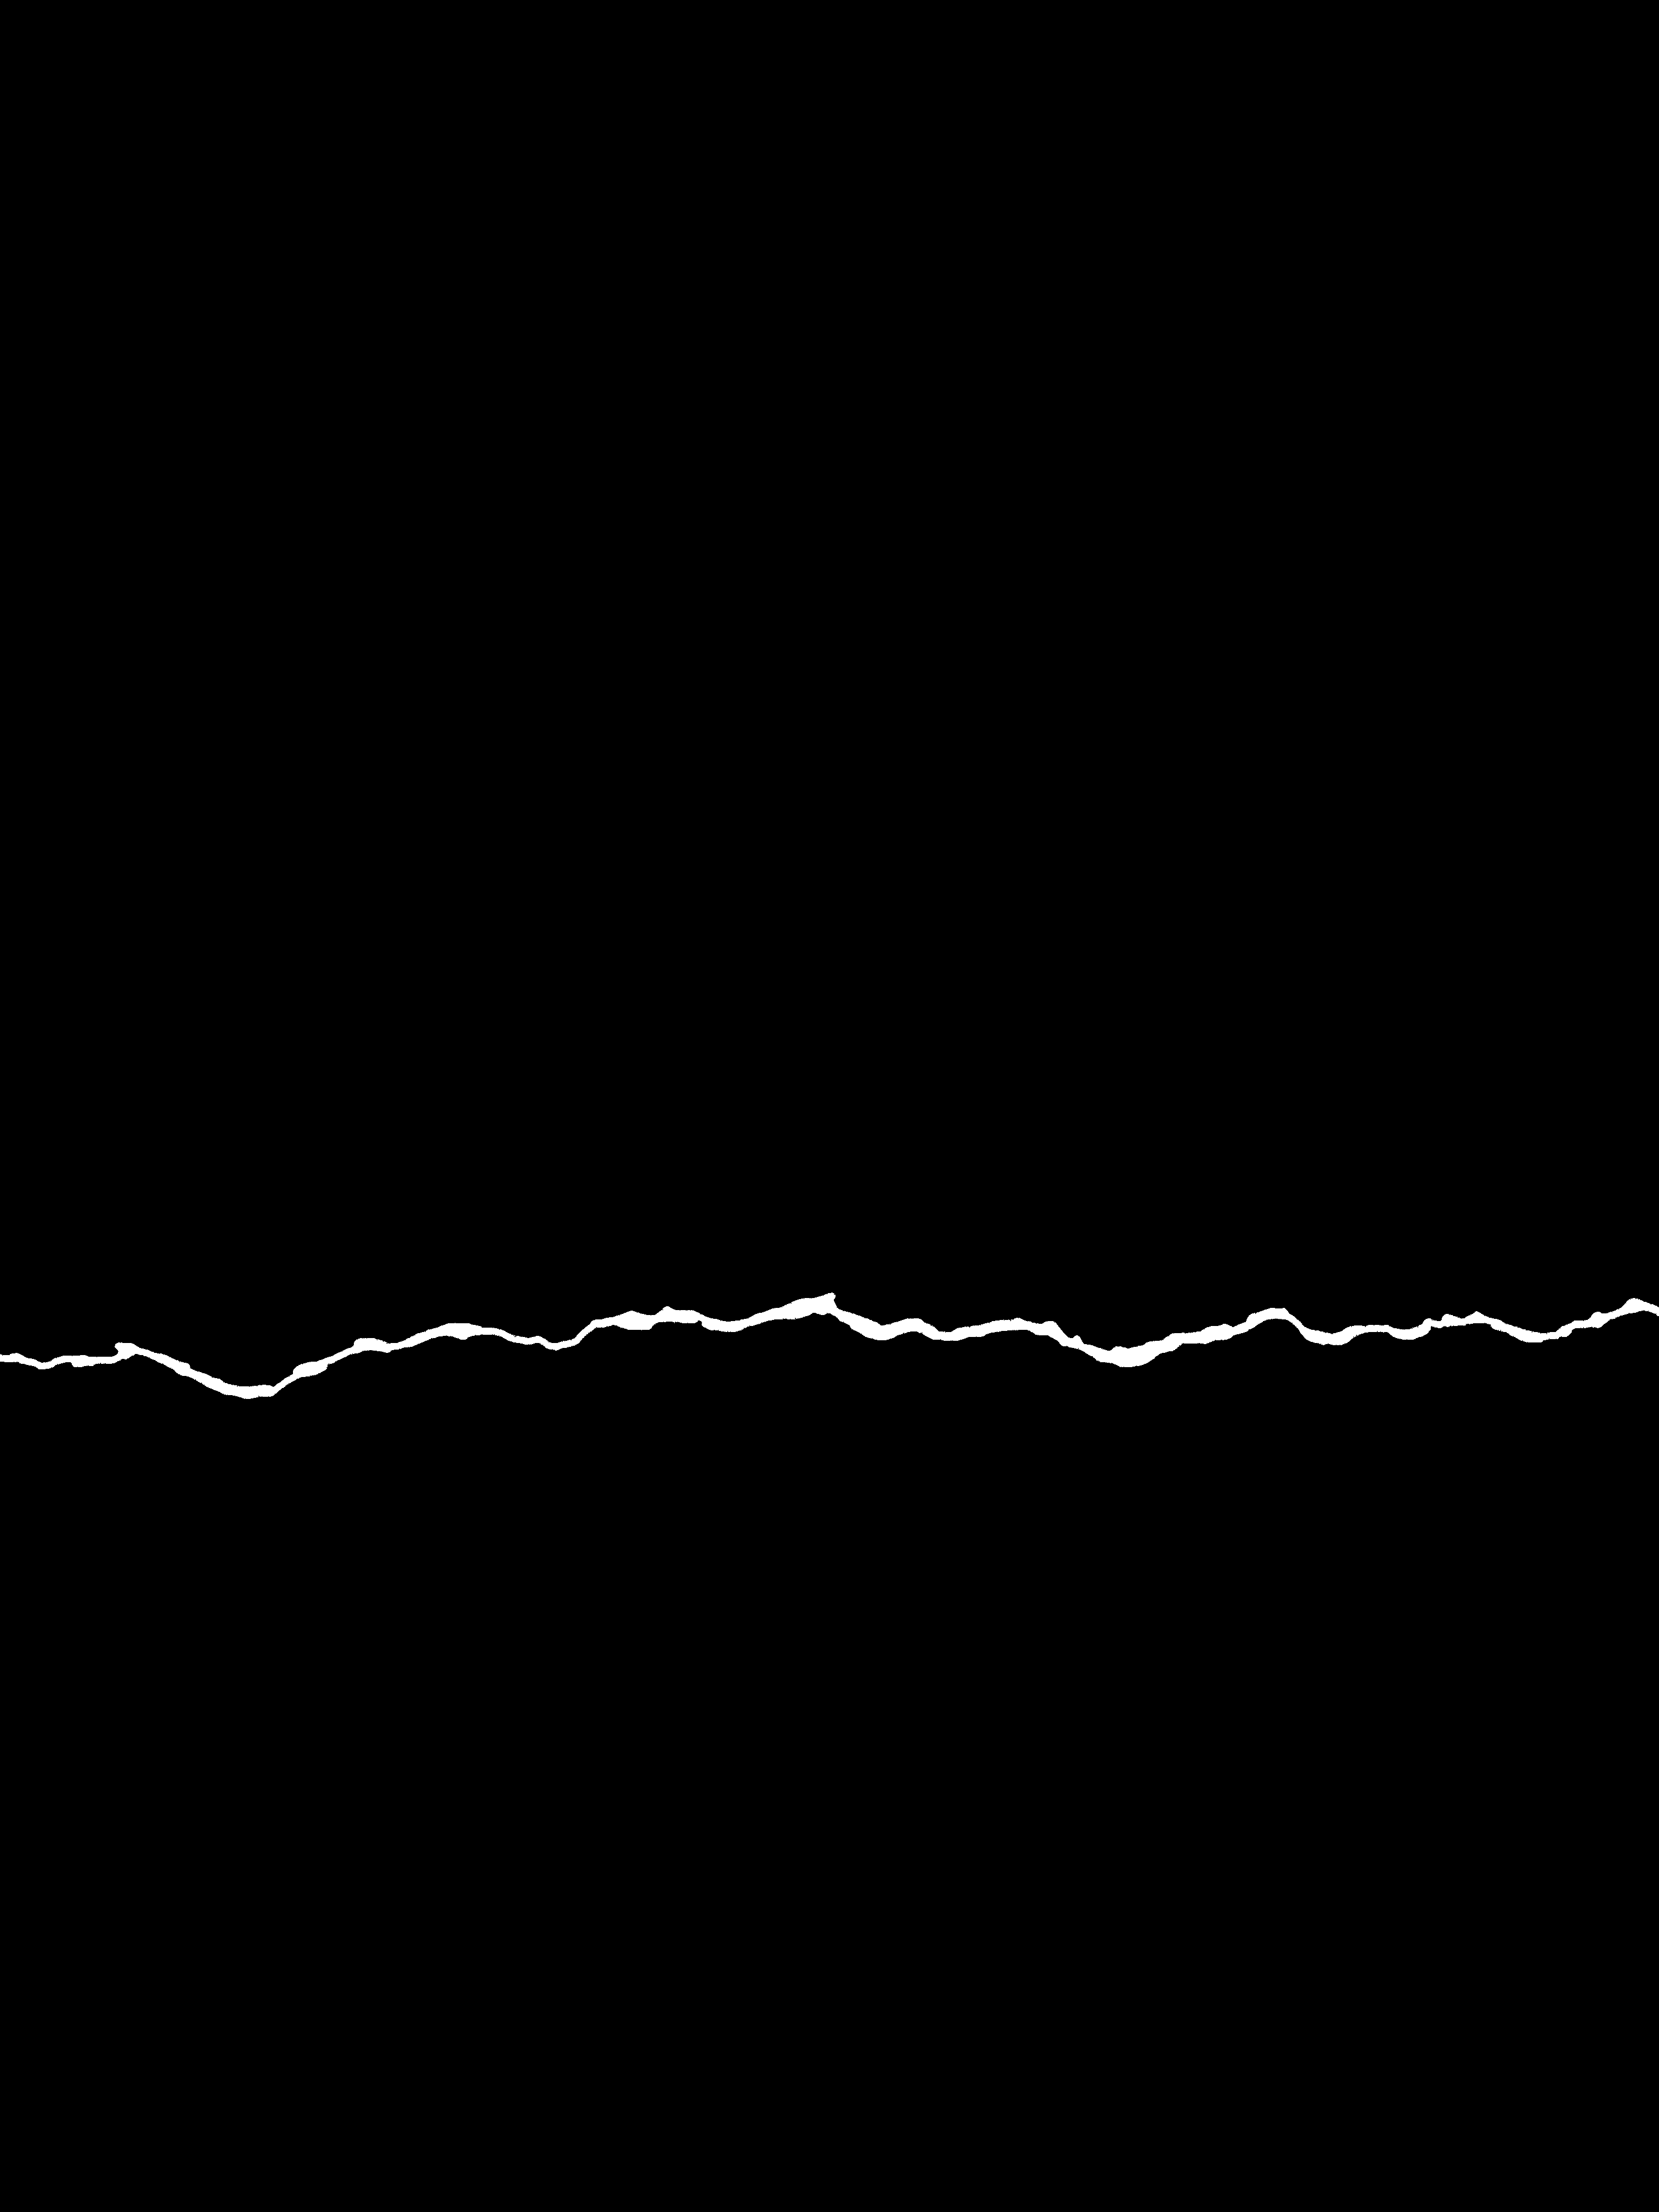Crack: (0, 1270, 1659, 1420)
